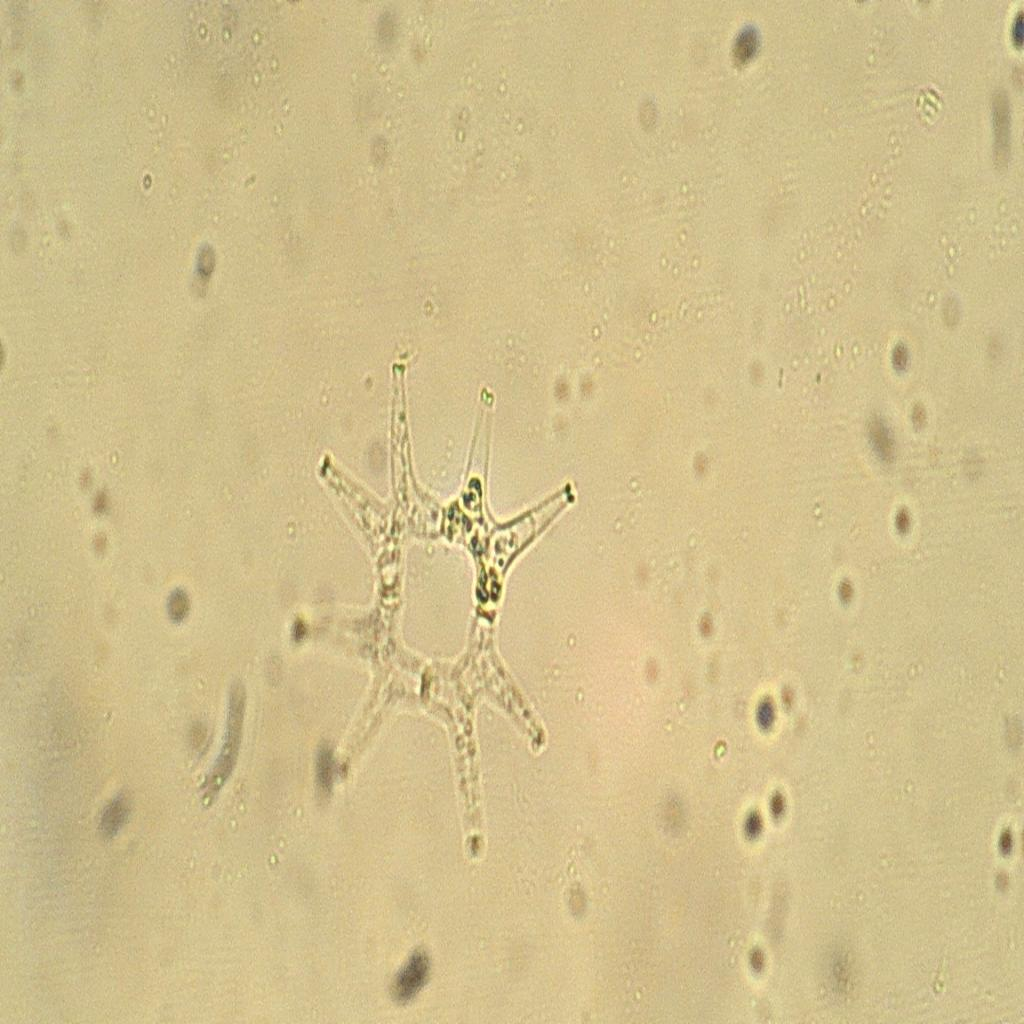Pediastrum_75TH: (279, 350, 589, 880)
